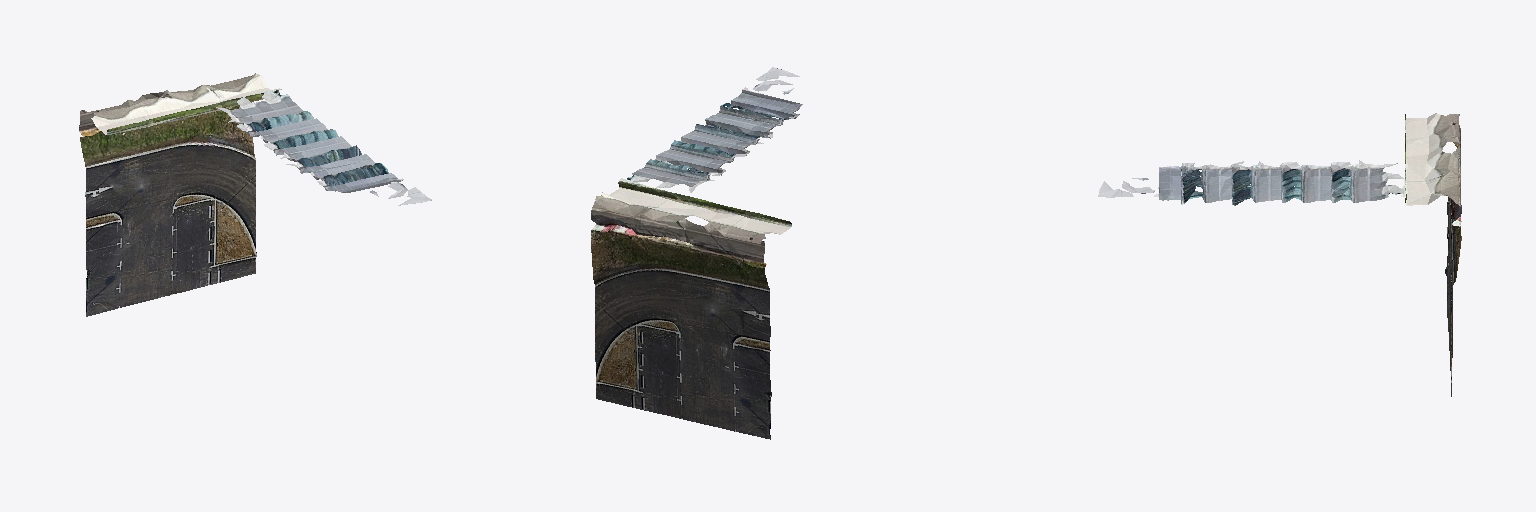
3 views of the same model, side by side, from view 1: azimuth 30°, elevation 25°; view 2: azimuth 150°, elevation 25°; view 3: azimuth 270°, elevation 25° (orthographic).
Visible parts, largest first — view 1: obj_0; view 2: obj_0; view 3: obj_0.
Boxes of the visible parts, <box> form: obj_0: <box>79,73,431,316</box>; obj_0: <box>591,67,802,439</box>; obj_0: <box>1098,113,1461,396</box>.
Size of the model in its own units: 20.08 by 22.53 by 36.64.
1 materials, 1 textured.